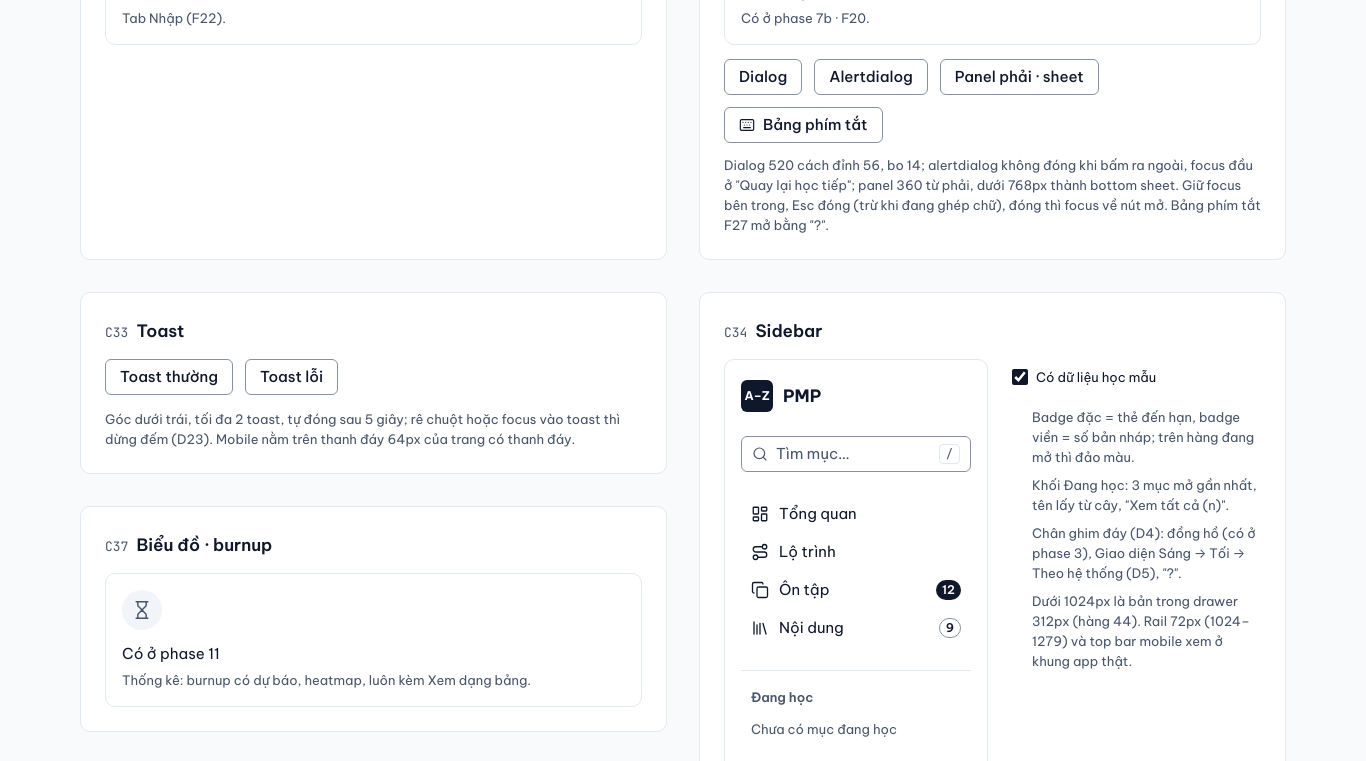
Test: gallery F02b (component phần 2) › C33: toast thường có Hoàn tác, toast lỗi có Thử lại
This screenshot has width=1366, height=761.
(page scrolled)
Click the button "Toast thường" at (169, 377), box x1=105 y1=359 x2=233 y2=395
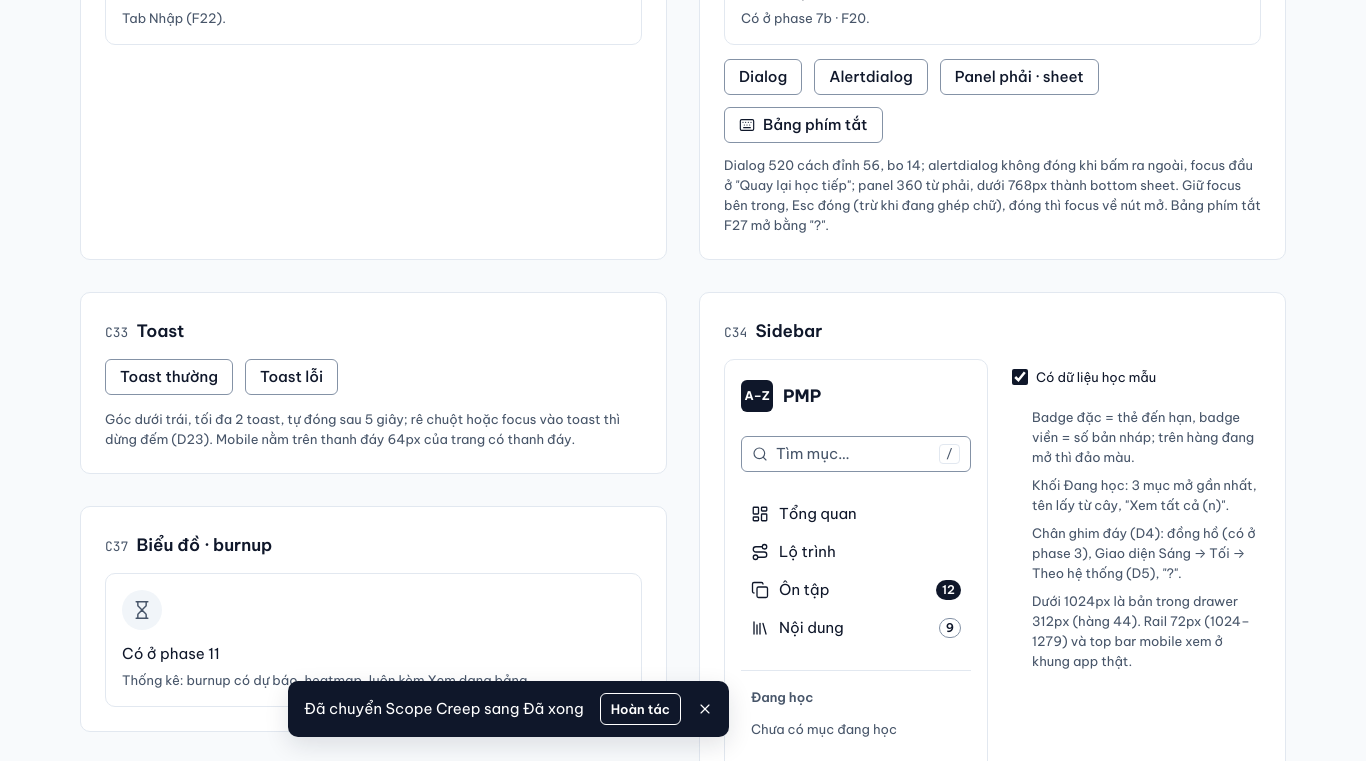
Result: the button "Hoàn tác" is shown at x1=600 y1=693 x2=681 y2=725
Click the button "Toast lỗi" at (292, 377), box x1=245 y1=359 x2=338 y2=395
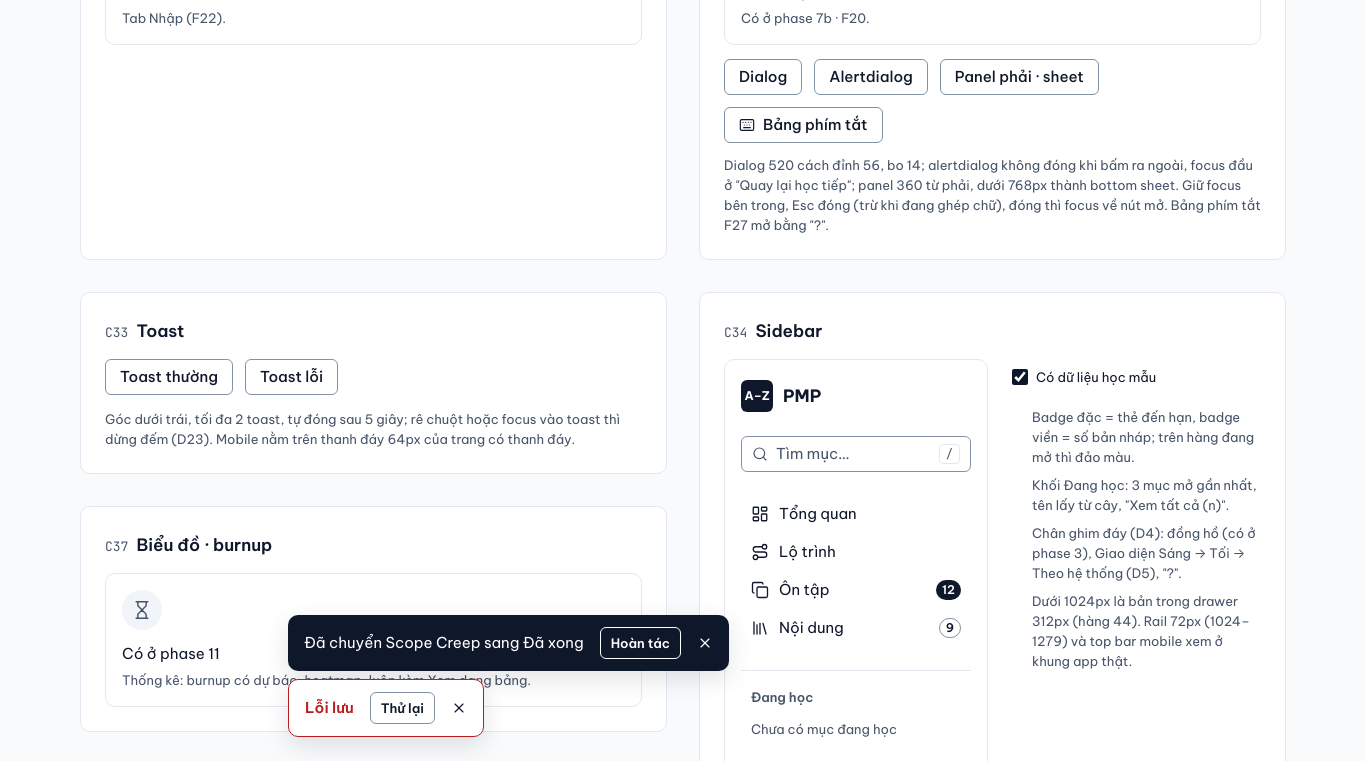
Result: the button "Thử lại" is shown at x1=370 y1=692 x2=435 y2=724
